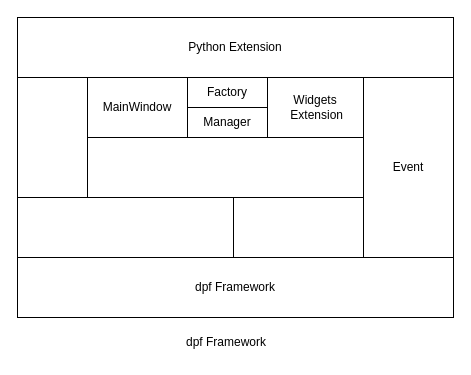
The diagram is 471 pixels wide and 375 high, and some of its shapes have lost their labels. Here are the shapes that lost their labels. From the top down, the centre of each, then its label:
At point (52, 137): "Impl".
At point (225, 167): "Service".
At point (125, 227): "Core Plugin".
At point (298, 227): "Other Plugin".
